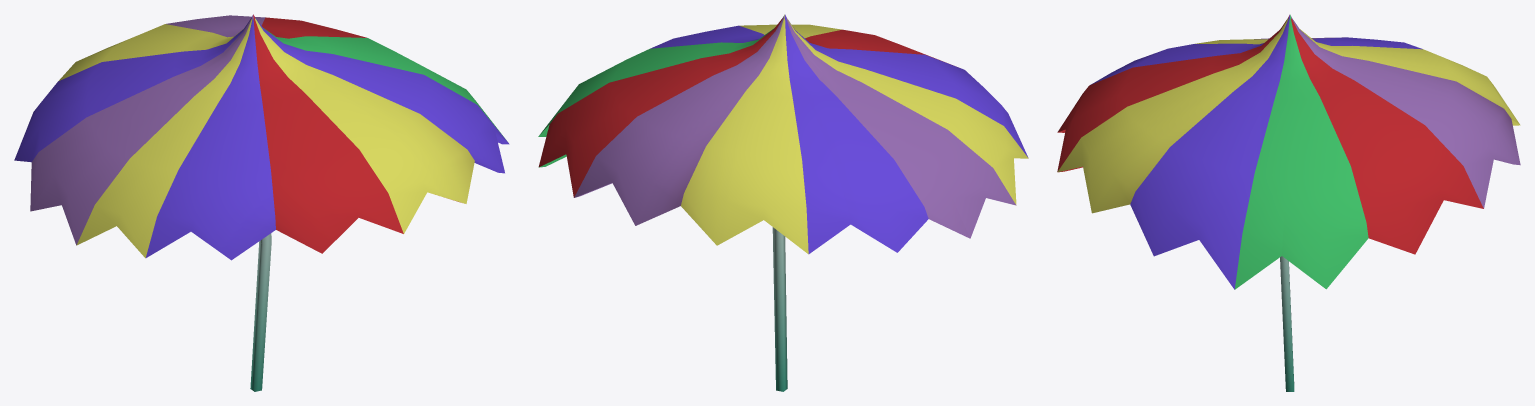
File: Umbrella.fbx
The picture shows the model from 3 angles, left to right: view 1: azimuth 30°, elevation 25°; view 2: azimuth 150°, elevation 25°; view 3: azimuth 270°, elevation 25°; orthographic projection.
Parts seen in each view (by area): view 1: Sombrilla.003; view 2: Sombrilla.003; view 3: Sombrilla.003.
Boxes of the visible parts, x1,y1,x2,y2 form: Sombrilla.003: (14, 14, 509, 391); Sombrilla.003: (538, 14, 1028, 391); Sombrilla.003: (1057, 14, 1520, 391).
Bounding box in the file's own units: 696 × 578 × 648.
